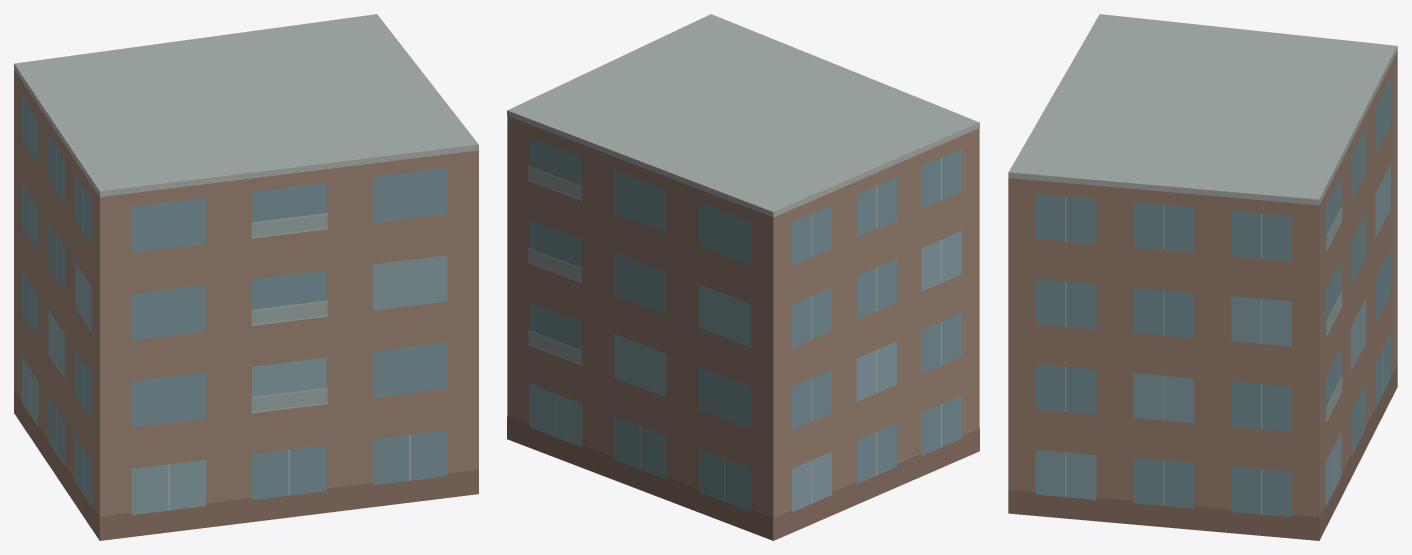
Rendered from survey-upis-32811376.glb.
The picture shows the model from 3 angles, left to right: view 1: azimuth 30°, elevation 25°; view 2: azimuth 150°, elevation 25°; view 3: azimuth 270°, elevation 25°; orthographic projection. The views are drawn at different scales.
Visible parts, largest first — view 1: survey-upis-32811376.tmp; view 2: survey-upis-32811376.tmp; view 3: survey-upis-32811376.tmp.
Boxes of the visible parts, x1,y1,x2,y2 form: survey-upis-32811376.tmp: (14,14,478,540); survey-upis-32811376.tmp: (507,14,979,540); survey-upis-32811376.tmp: (1008,14,1397,540).
Size of the model in its own units: 17.29 by 14.8 by 15.31.
